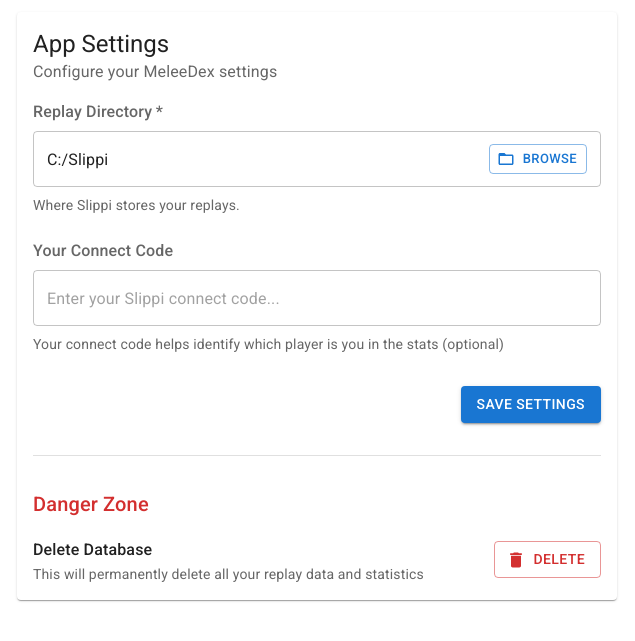
Test: SettingsPage — the connect code has to look like one › refuses something that is not a connect code
Type "jakeyizle" into the field with placeholder "Enter your Slippi connect code...".
click(317, 298); type("jakeyizle")  # box [33,270,601,326]
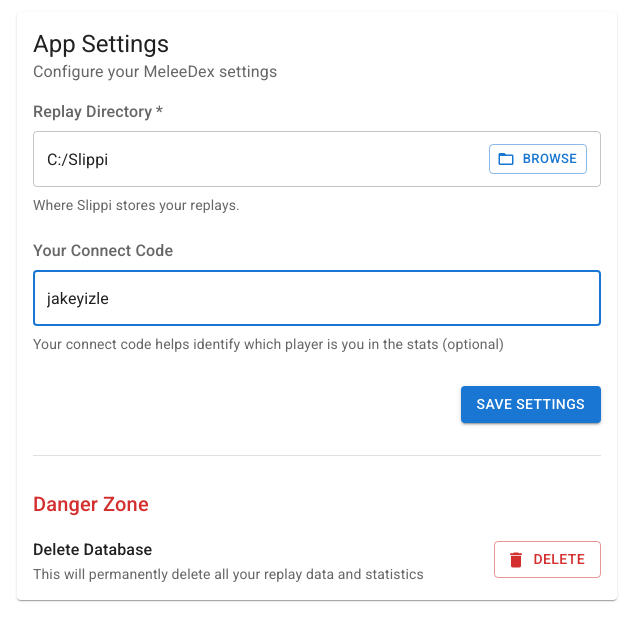
Press Tab
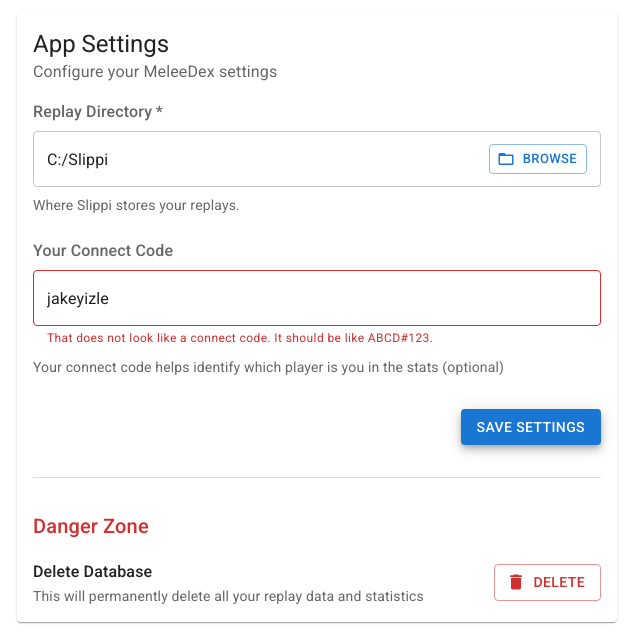
Now the text "That does not look like a connect code" is shown, box [47,331,433,345]
